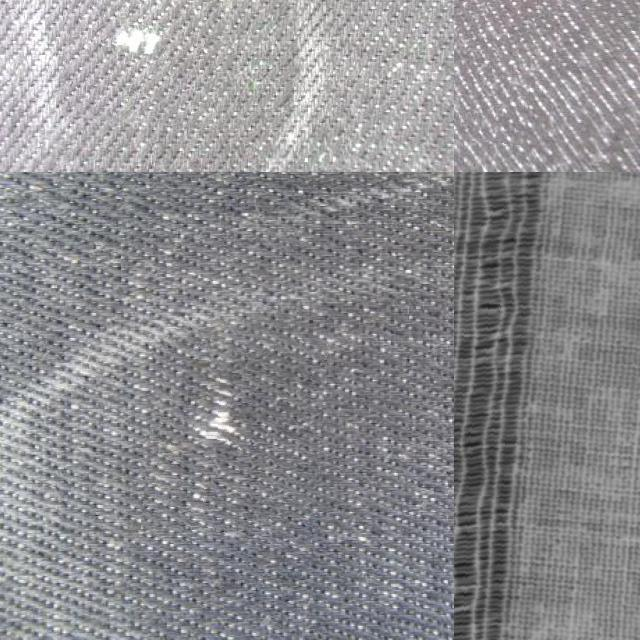stains: (454, 172, 640, 640), (144, 330, 324, 542), (63, 0, 232, 126), (454, 0, 555, 136)
